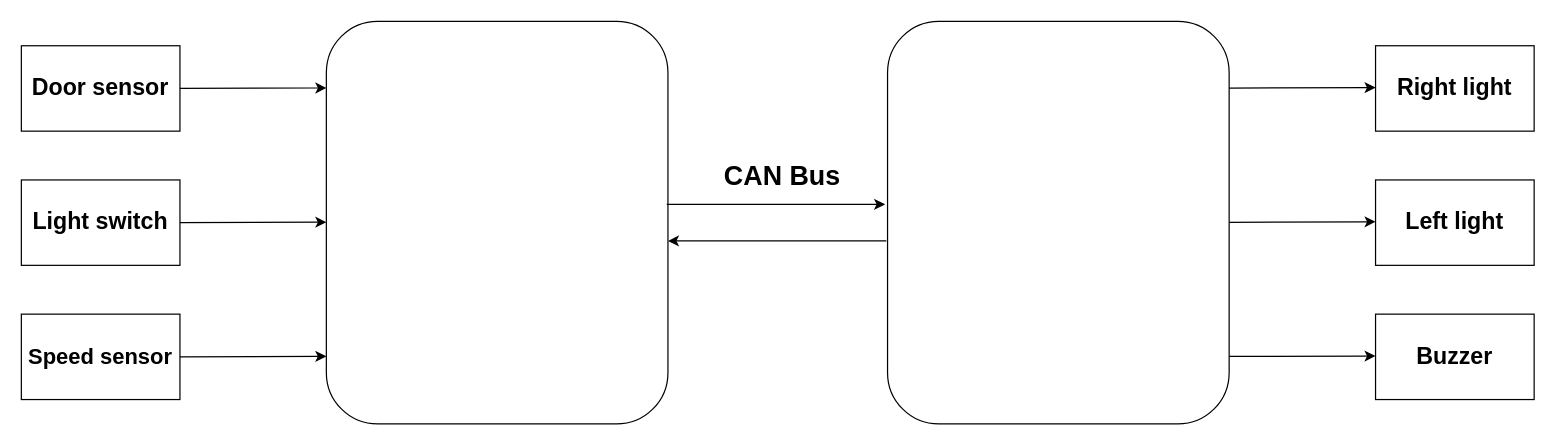
The diagram is 1556 pixels wide and 445 high, and some of its shapes have lost their labels. Here are the shapes that lost their labels. From the top down, the centre of each, then its label:
At (x=496, y=222): "ECU 1".
At (x=1057, y=222): "ECU 2".
